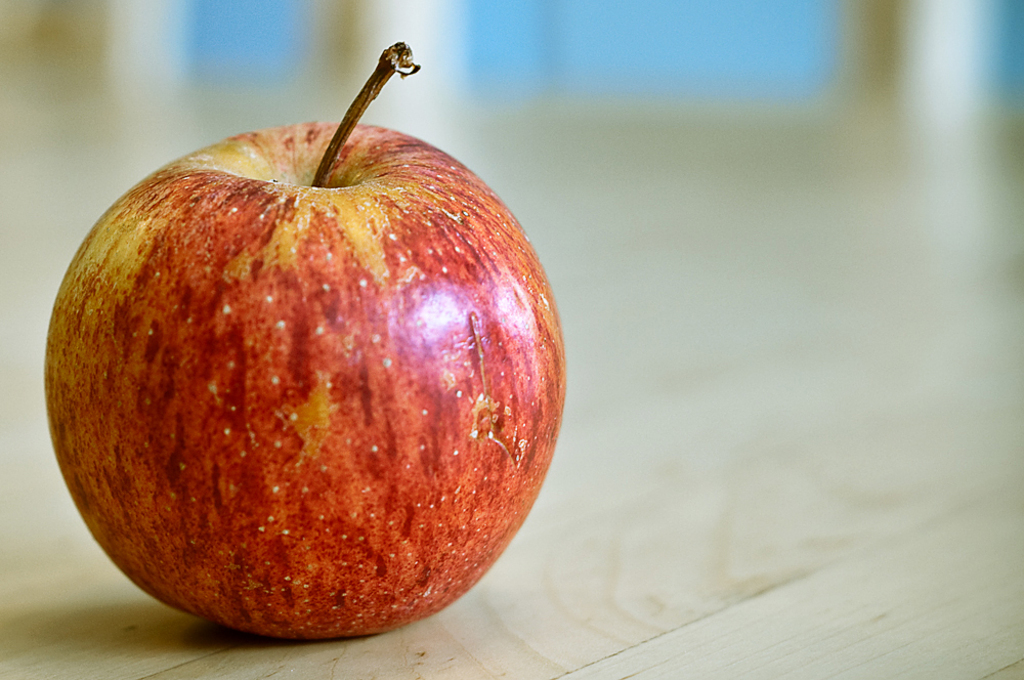Apple: (44, 50, 556, 639)
